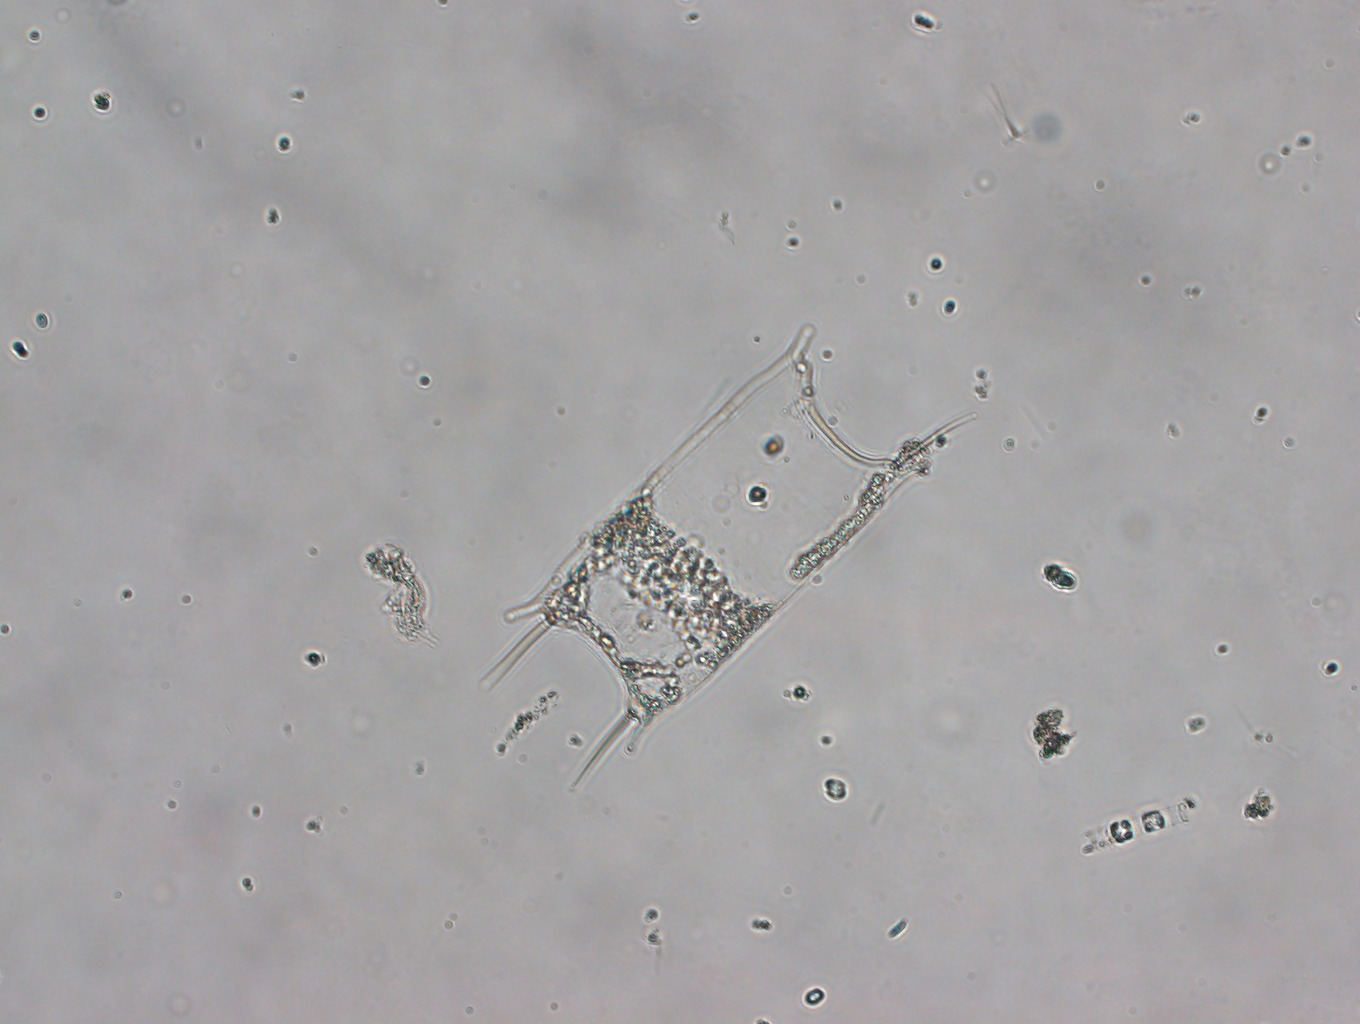biddulphia: (453, 300, 982, 790)
skeletonema: (1065, 791, 1215, 858)
